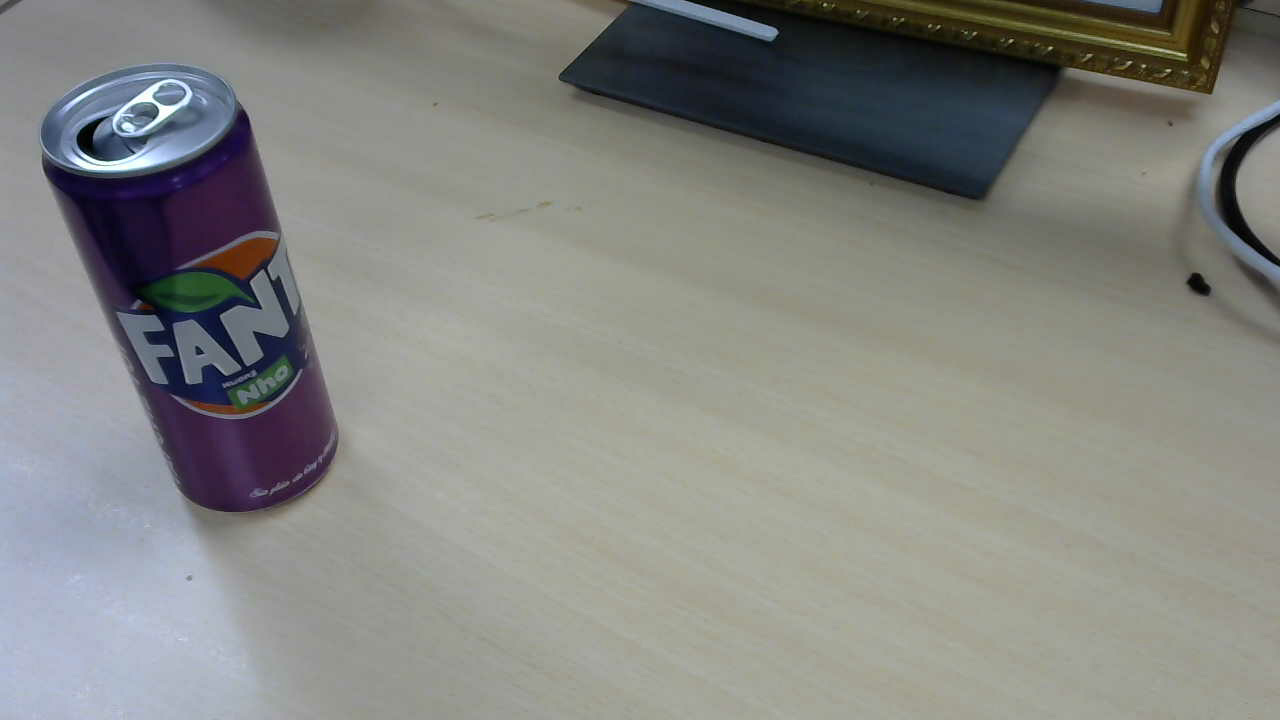Fanta: (41, 65, 347, 520)
